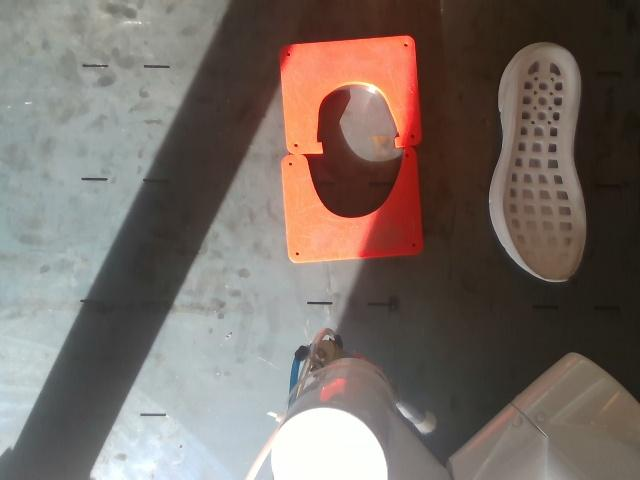shoes: (503, 46, 586, 282)
